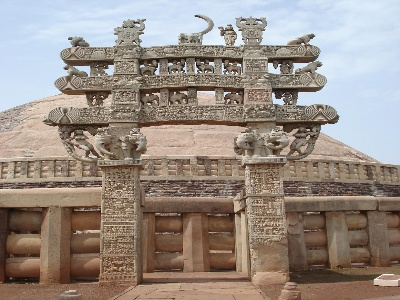torana: (54, 13, 337, 275)
